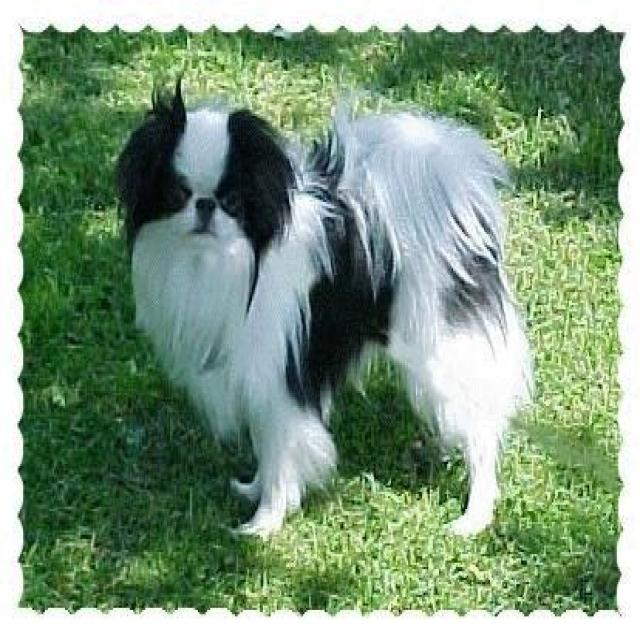husky: (114, 78, 536, 544)
